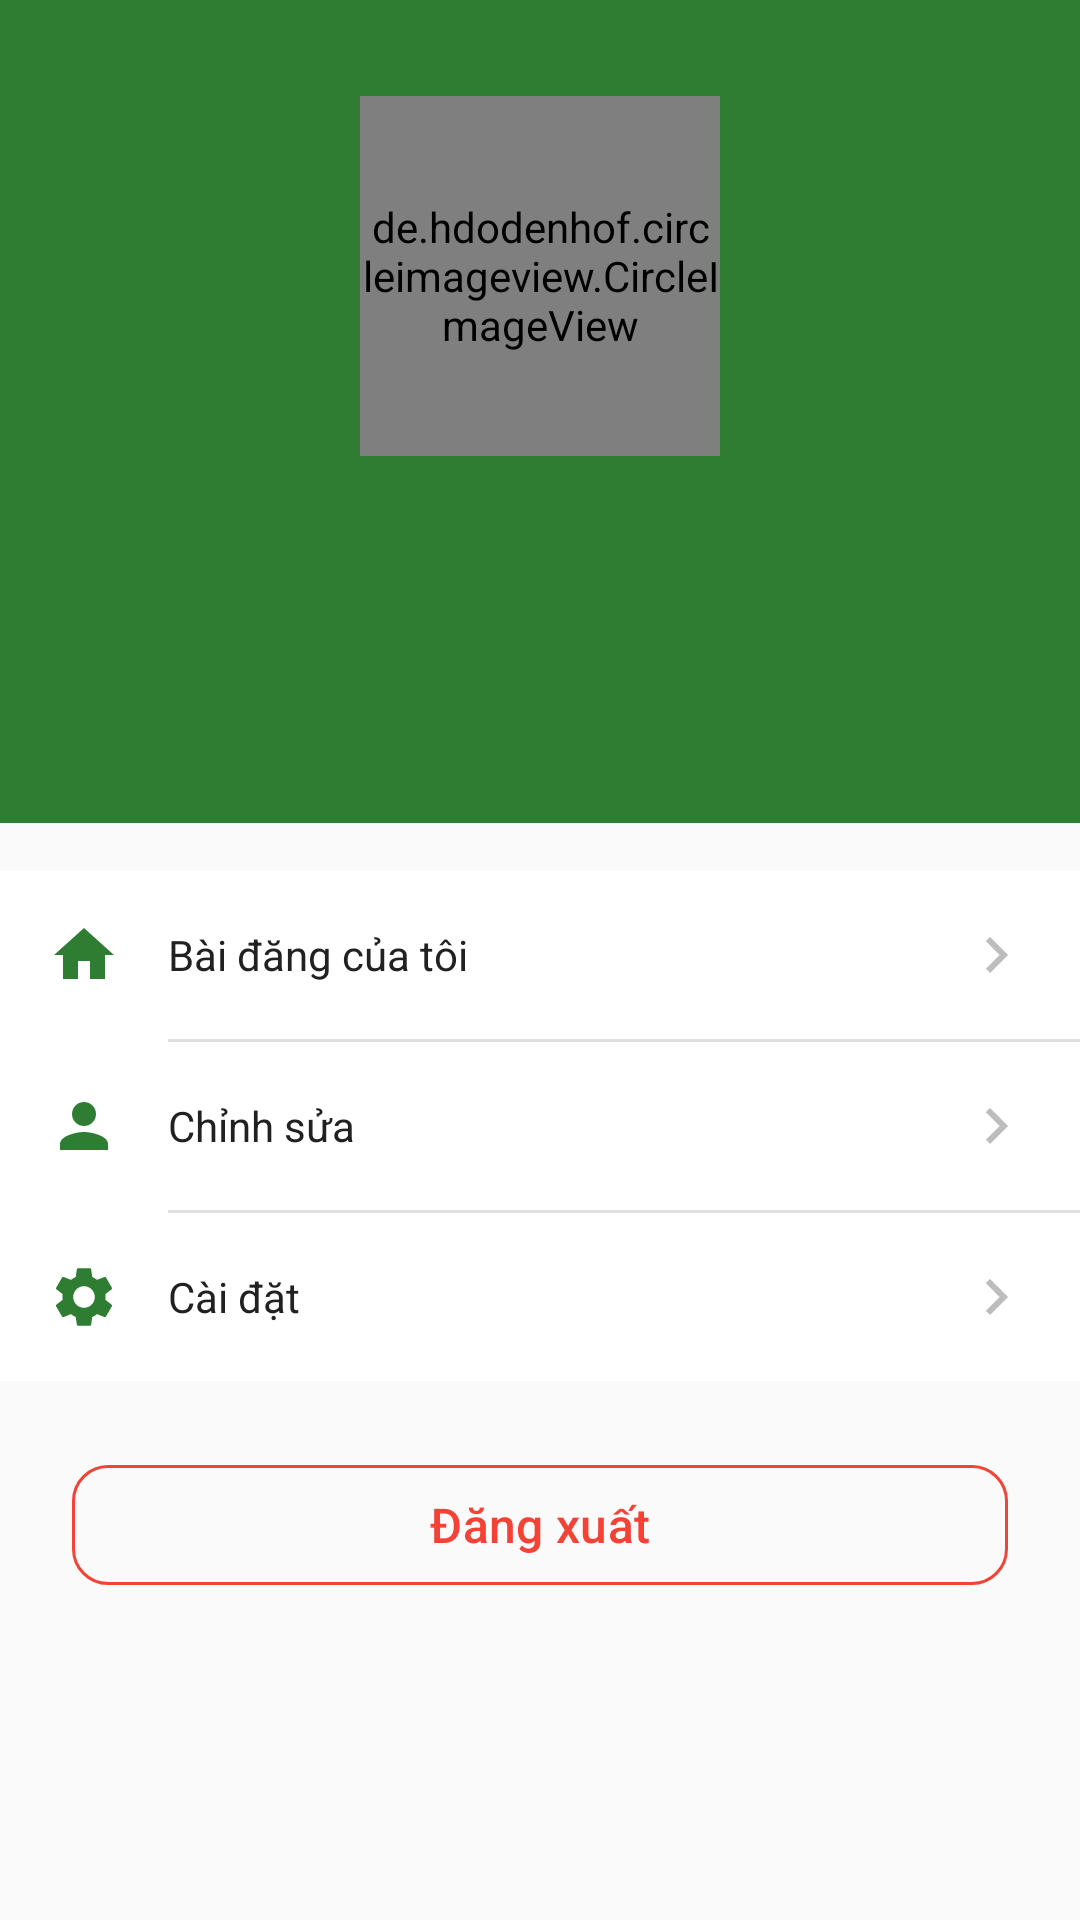

Screen size 1080px×1920px. Icon name, then its center in pixels as (x,y):
arrow forward: (997,955), (997,1126), (997,1297)
home: (84,953)
profile: (84,1126)
settings: (84,1297)
